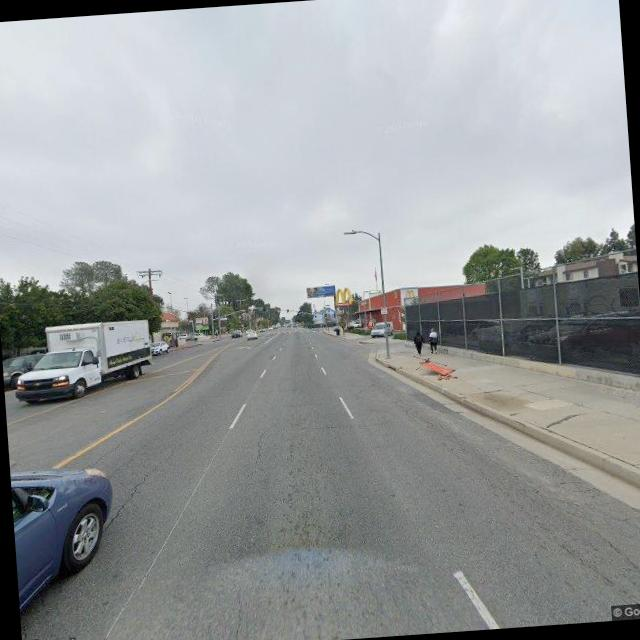crack: (98, 444, 184, 530), (247, 423, 271, 472)
